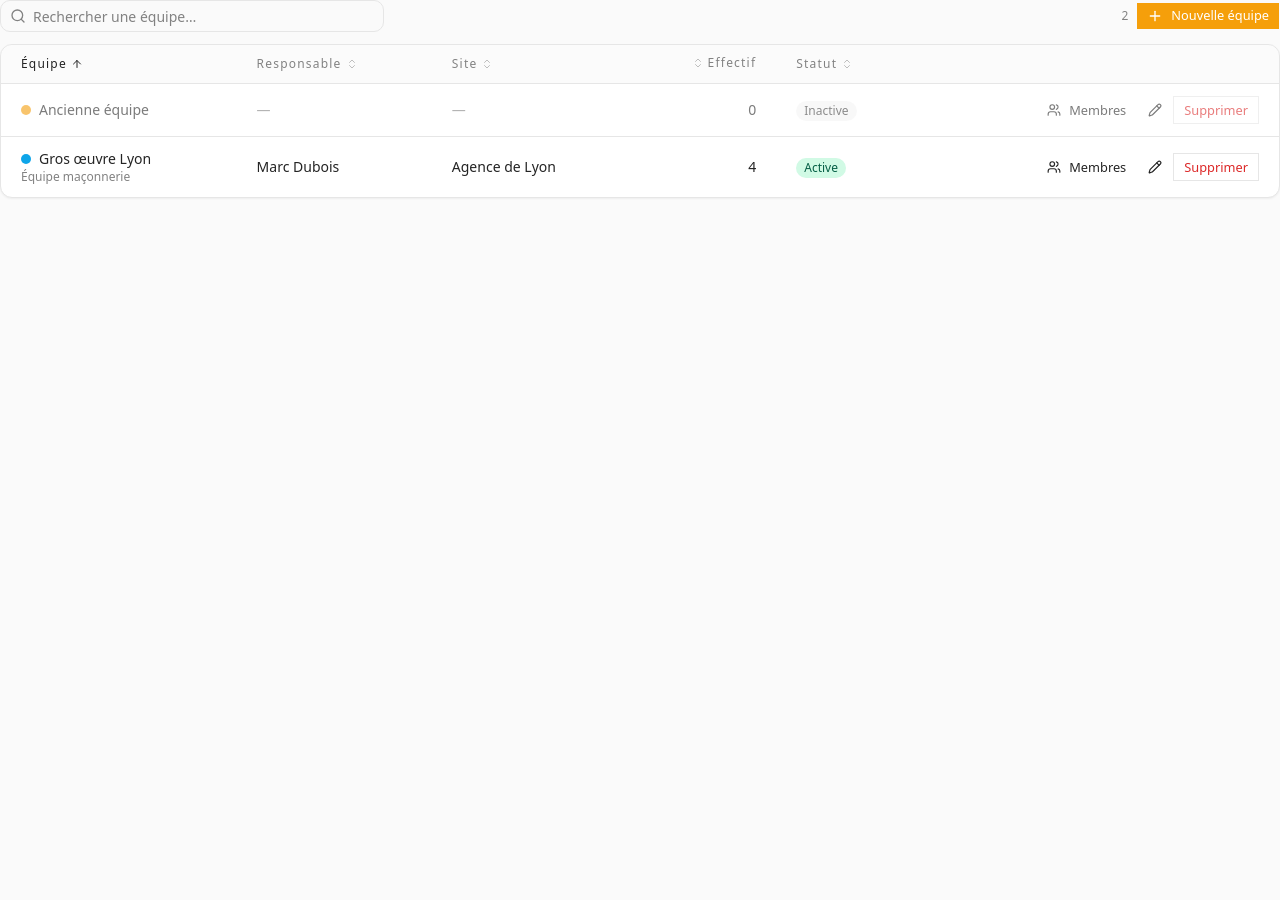
EquipesSection › dialogue des membres : rôle, période et statut (actif / terminé)
Click the button with aria-label "Membres de Gros œuvre Lyon". click: x=1087, y=167
box: [1036,153,1137,181]
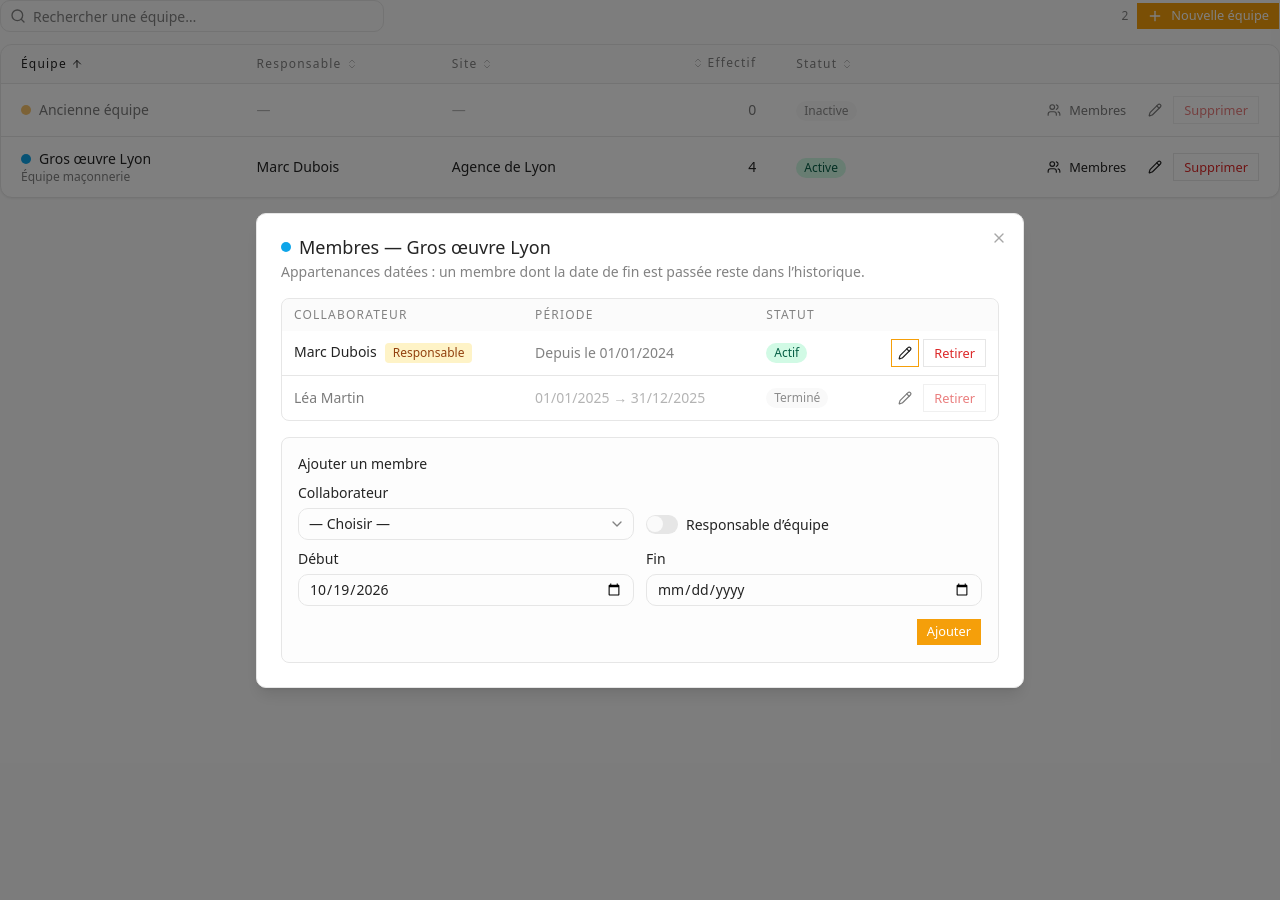
Check: the text "Responsable" is shown, box [385,343,472,363]
Check: the text "Depuis le 01/01/2024" is shown, box [523,330,754,375]
Check: the text "01/01/2025 → 31/12/2025" is shown, box [523,375,754,420]
